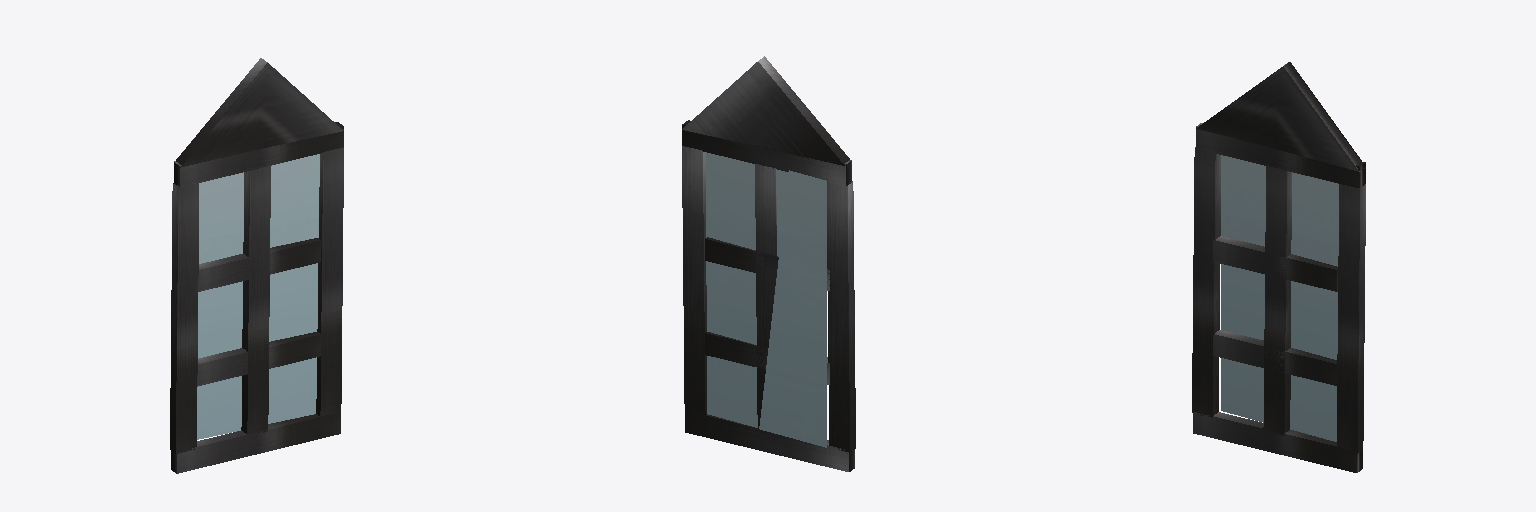
3 renders of one model, left to right at view 1: azimuth 30°, elevation 25°; view 2: azimuth 150°, elevation 25°; view 3: azimuth 330°, elevation 25°, orthographic.
Visible parts, largest first — view 1: pCube9, pPlane1; view 2: pCube9, pPlane1; view 3: pCube9, pPlane1.
Part boxes in pixels (bbox=[...]): pCube9: bbox=[170, 58, 343, 473]; pPlane1: bbox=[197, 154, 319, 439]; pCube9: bbox=[682, 56, 855, 471]; pPlane1: bbox=[706, 152, 826, 447]; pCube9: bbox=[1192, 62, 1365, 472]; pPlane1: bbox=[1221, 155, 1338, 441].
Size of the model in its own units: 5.26 by 11.63 by 0.4588.
Materials: 2 (2 with a texture image).